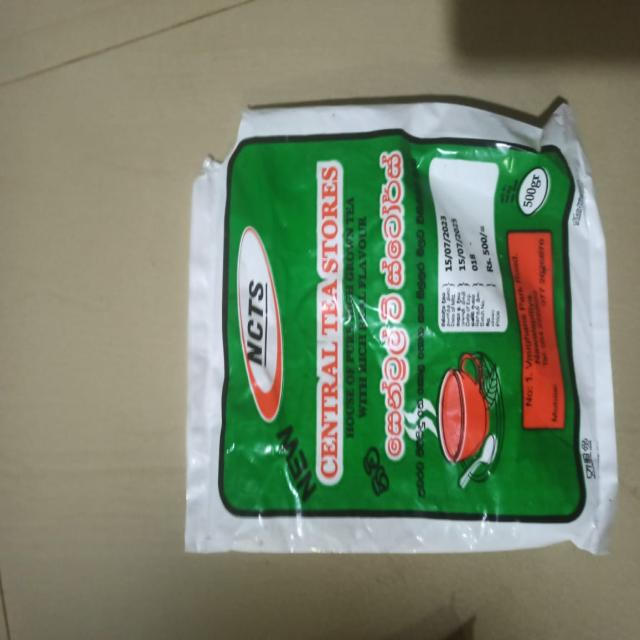Central Tea: (153, 103, 640, 631)
